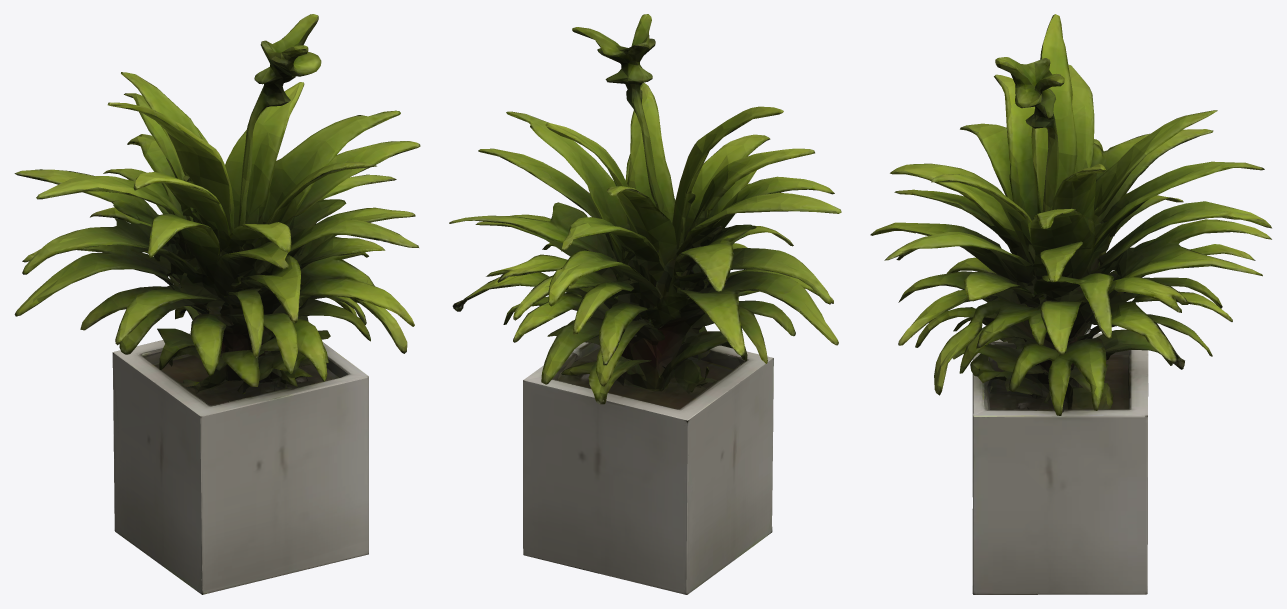
File: plant_potted_concrete.glb
The picture shows the model from 3 angles, left to right: view 1: azimuth 30°, elevation 25°; view 2: azimuth 150°, elevation 25°; view 3: azimuth 270°, elevation 25°; orthographic projection. The views are drawn at different scales.
Parts seen in each view (by area): view 1: geometry_0; view 2: geometry_0; view 3: geometry_0.
Part boxes in pixels (x1,y1,x2,y2): geometry_0: (14, 14, 420, 594); geometry_0: (449, 14, 841, 594); geometry_0: (870, 14, 1271, 594).
Size of the model in its own units: 0.7959 by 1 by 0.7137.
1 material, 1 textured.
